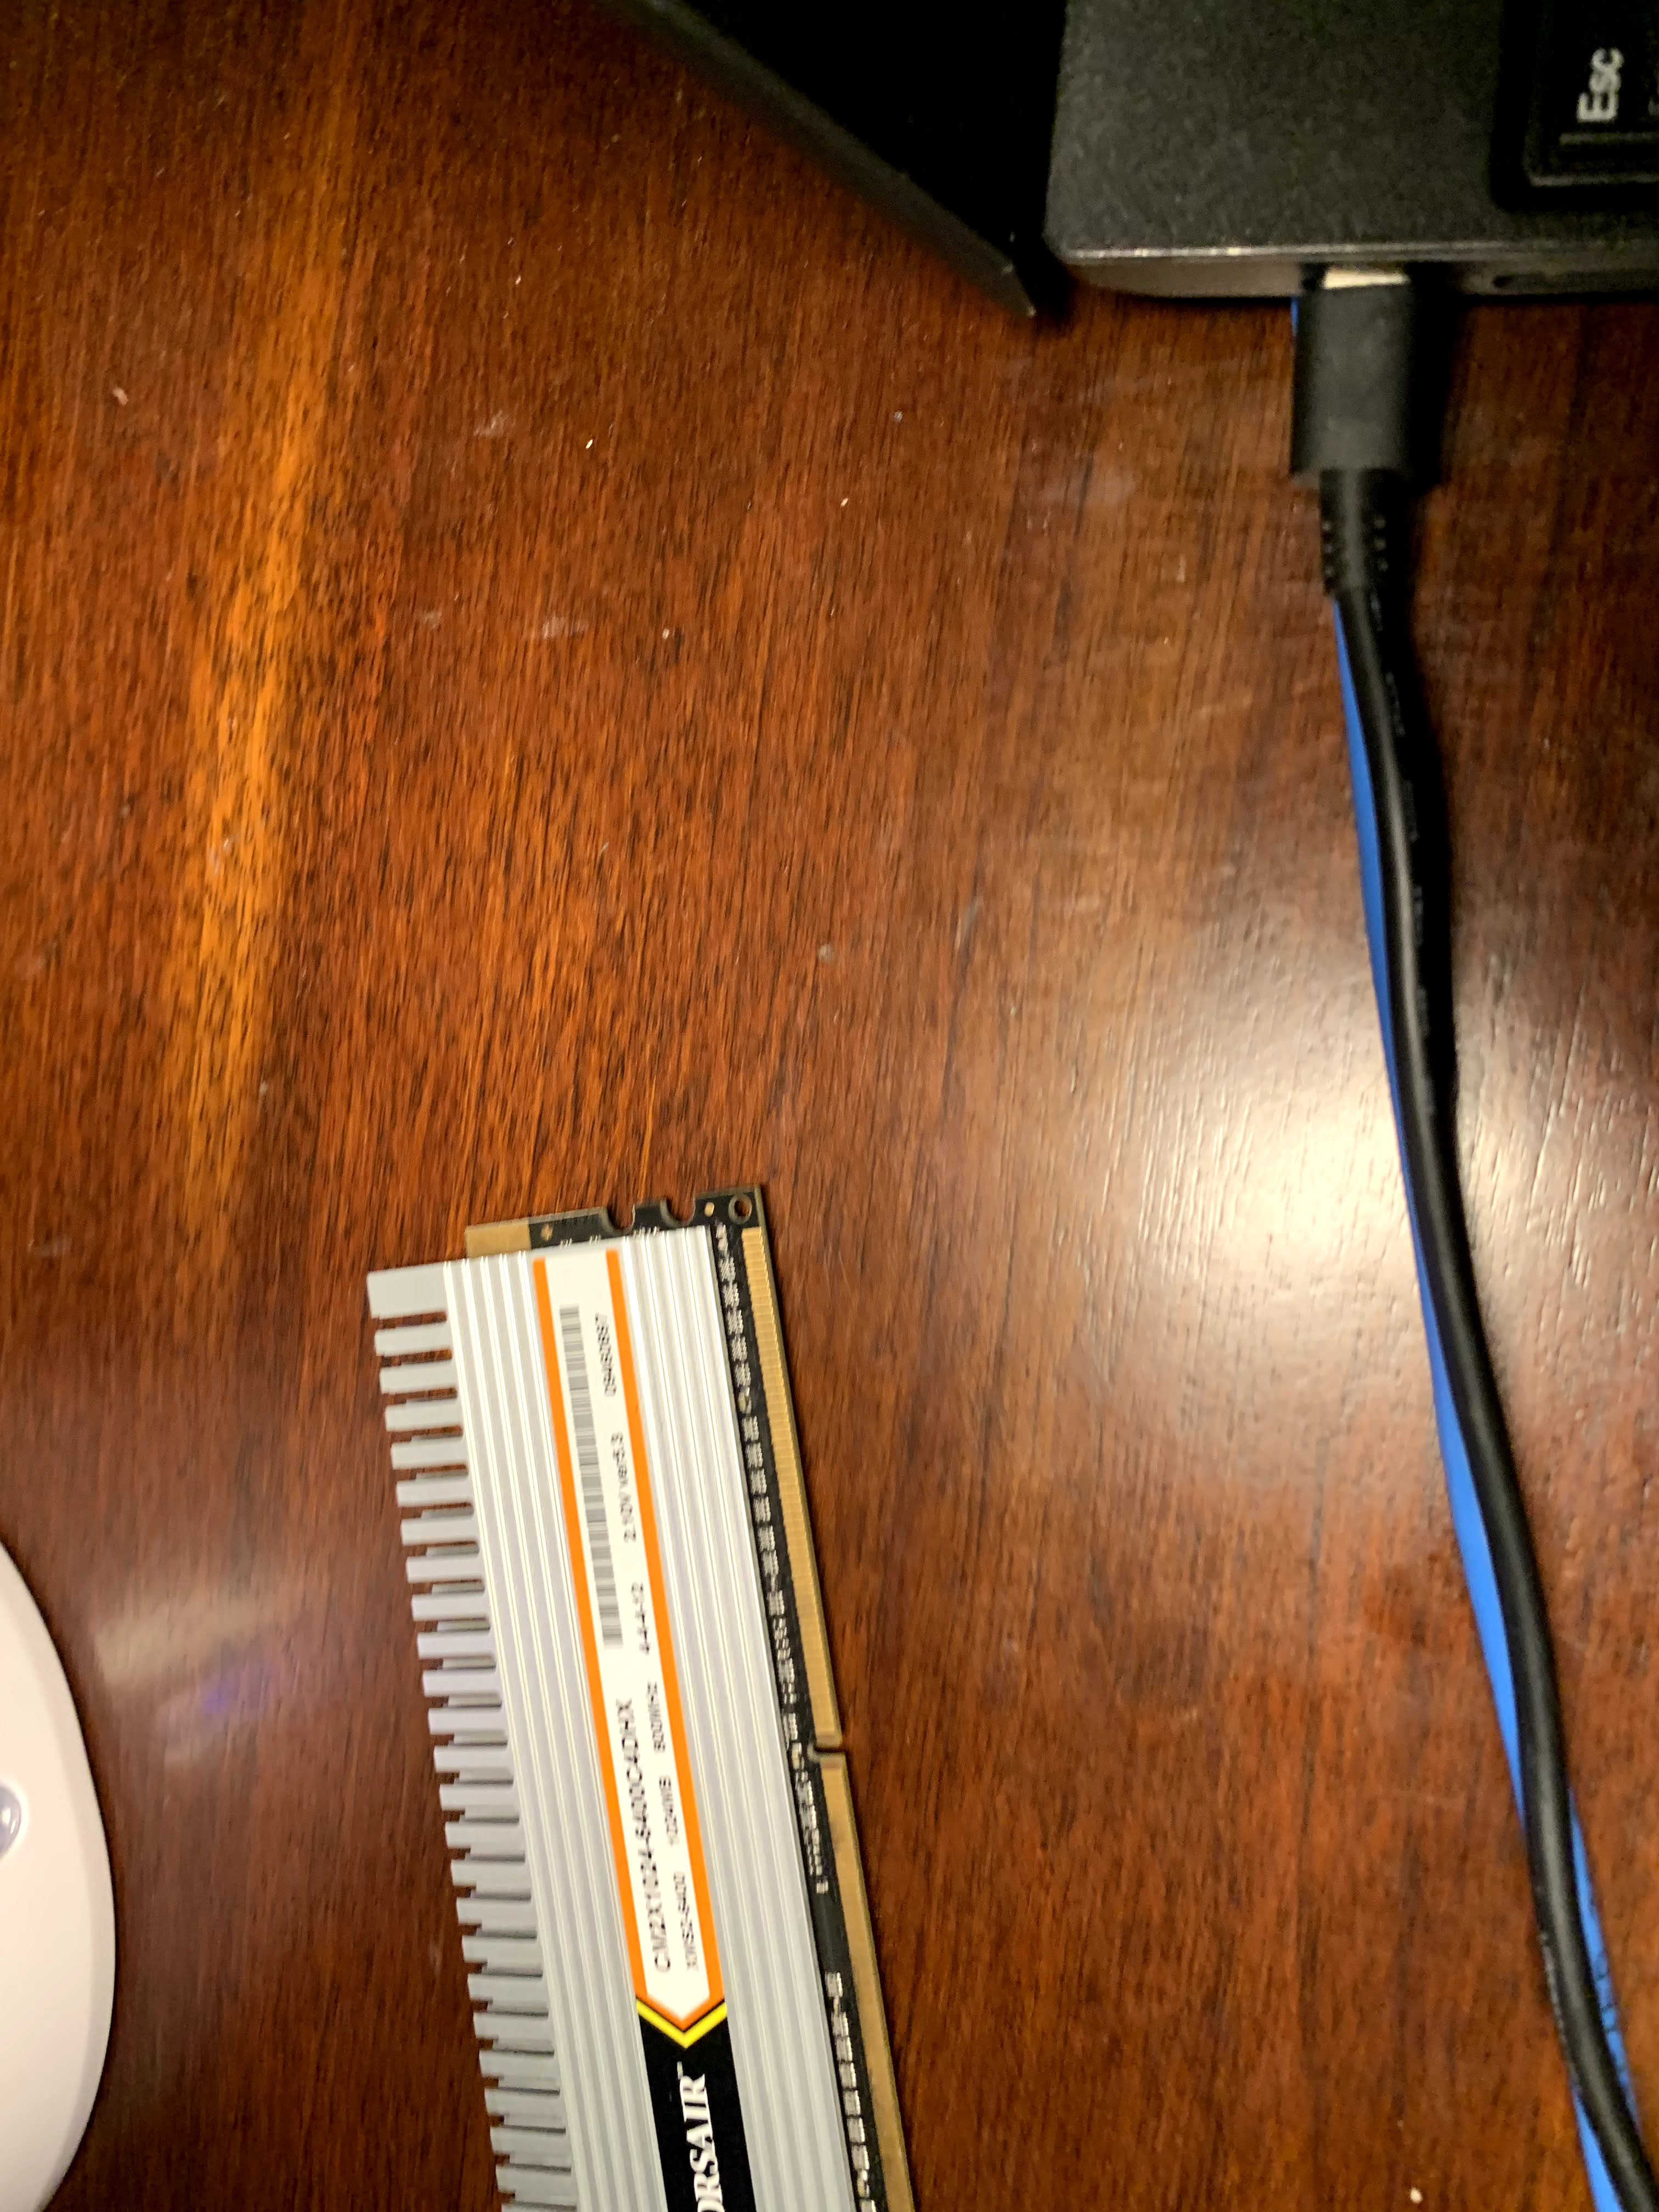Space-debris-medium: (329, 1170, 978, 2212)
